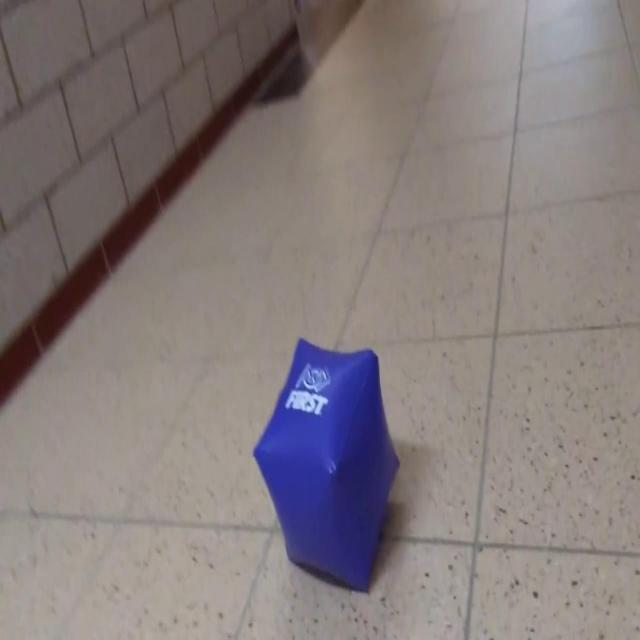frc_cube: (254, 336, 400, 595)
